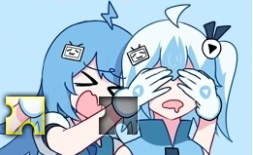gap: (99, 97, 138, 135)
